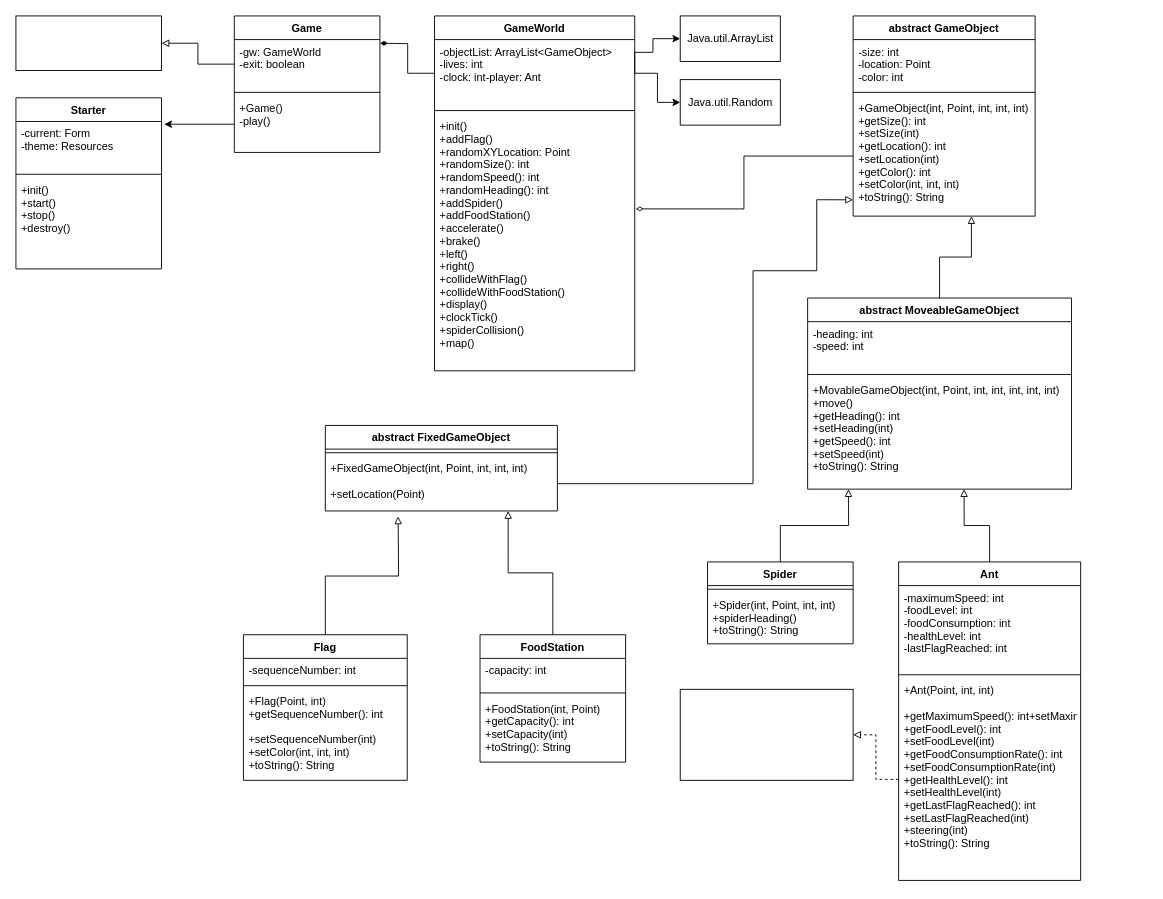
Image size: 1163x899. Some labels were removed from this diagram. The shapes that lost their labels are listed below. From the top down, each one's centre as x and y in pixels, then its label:
At point 88,43: "com.codename1.ui.Form".
At point 766,734: "<<Interface>> ISteerable +steering: int".
